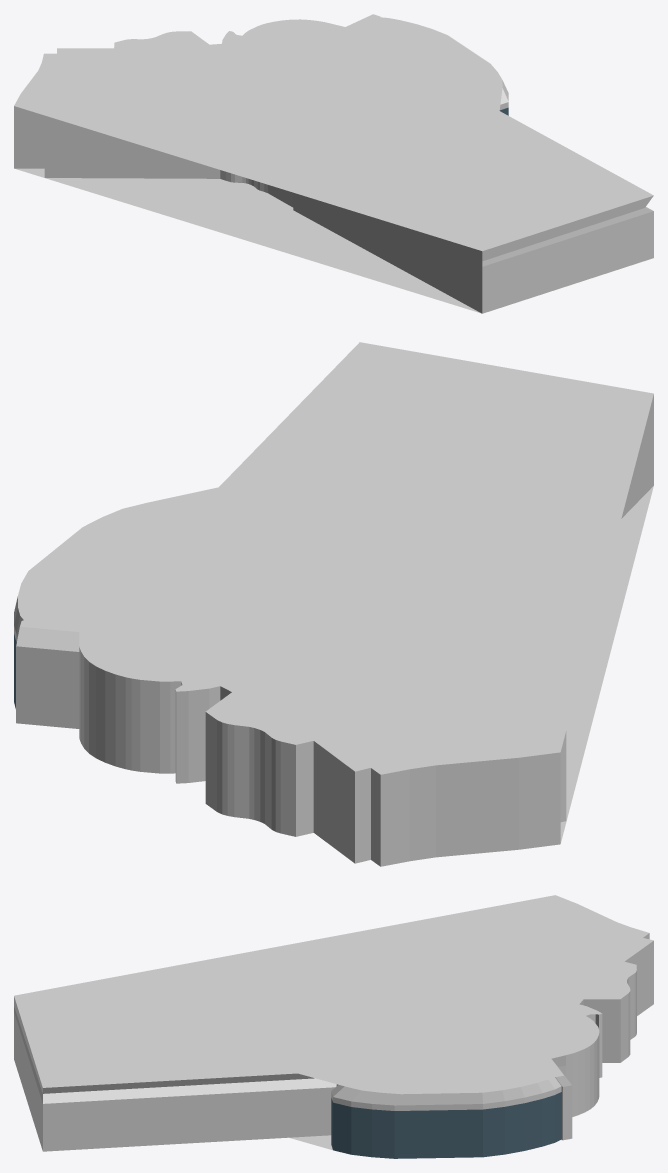
File: Ponds Forge.fbx
3 views of the same model, one above another, from view 1: azimuth 30°, elevation 25°; view 2: azimuth 150°, elevation 25°; view 3: azimuth 270°, elevation 25° (orthographic). The views are drawn at different scales.
Visible parts, largest first — view 1: Ponds Forge; view 2: Ponds Forge; view 3: Ponds Forge.
Part boxes in pixels (box(x1,y1,x2,y2)): Ponds Forge: box(14, 14, 653, 313); Ponds Forge: box(14, 342, 653, 866); Ponds Forge: box(14, 895, 653, 1158).
Bounding box in the file's own units: 13469 × 2000 × 18208.
